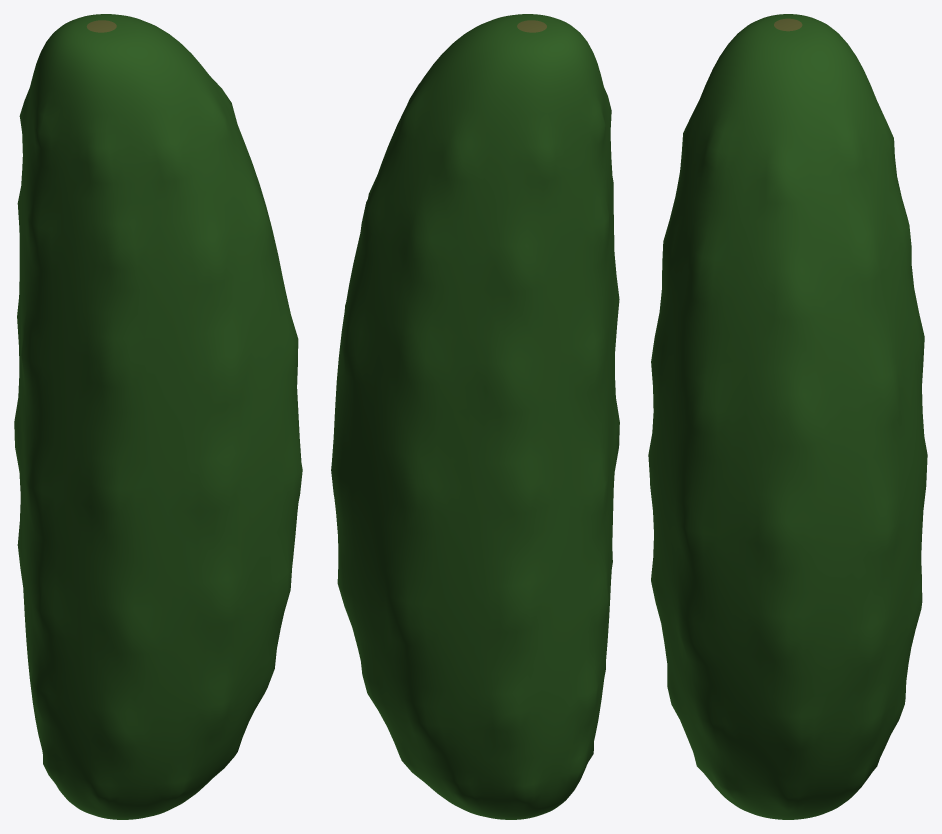
File: A-NEW-20261027-CUCUMBER-001_LOD1_R1.fbx
3 views of the same model, side by side, from view 1: azimuth 30°, elevation 25°; view 2: azimuth 150°, elevation 25°; view 3: azimuth 270°, elevation 25° (orthographic). The views are drawn at different scales.
Visible parts, largest first — view 1: original curved cucumber skin bumps and rounded ends; view 2: original curved cucumber skin bumps and rounded ends; view 3: original curved cucumber skin bumps and rounded ends.
Part boxes in pixels (x1=…): original curved cucumber skin bumps and rounded ends: x1=14, y1=14, x2=302, y2=819; original curved cucumber skin bumps and rounded ends: x1=331, y1=14, x2=619, y2=819; original curved cucumber skin bumps and rounded ends: x1=648, y1=14, x2=927, y2=819.
Bounding box in the file's own units: 4.96 × 14.42 × 4.73.
